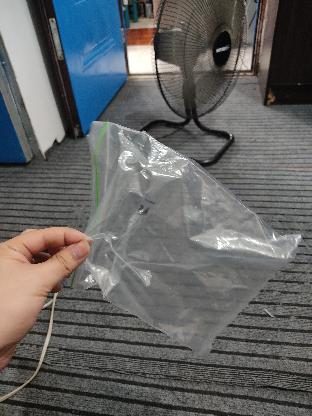Plastic Bag: (66, 122, 300, 354)
